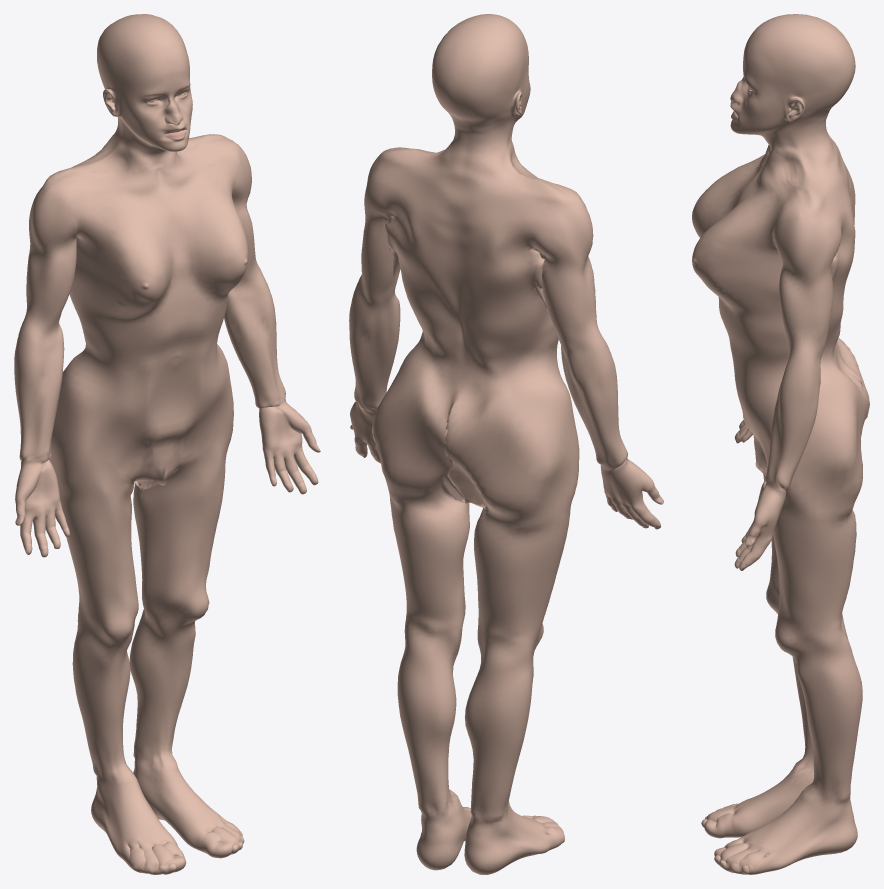
File: B1_AB_NativeExterior_Rest.glb
3 views of the same model, side by side, from view 1: azimuth 30°, elevation 25°; view 2: azimuth 150°, elevation 25°; view 3: azimuth 270°, elevation 25° (orthographic). The views are drawn at different scales.
Parts seen in each view (by area): view 1: b1_OriginalABSkin; view 2: b1_OriginalABSkin; view 3: b1_OriginalABSkin.
Boxes of the visible parts, x1=… form: b1_OriginalABSkin: x1=14, y1=14, x2=320, y2=874; b1_OriginalABSkin: x1=349, y1=14, x2=663, y2=874; b1_OriginalABSkin: x1=692, y1=14, x2=869, y2=874.
Bounding box in the file's own units: 0.637 × 1.65 × 0.3222.
